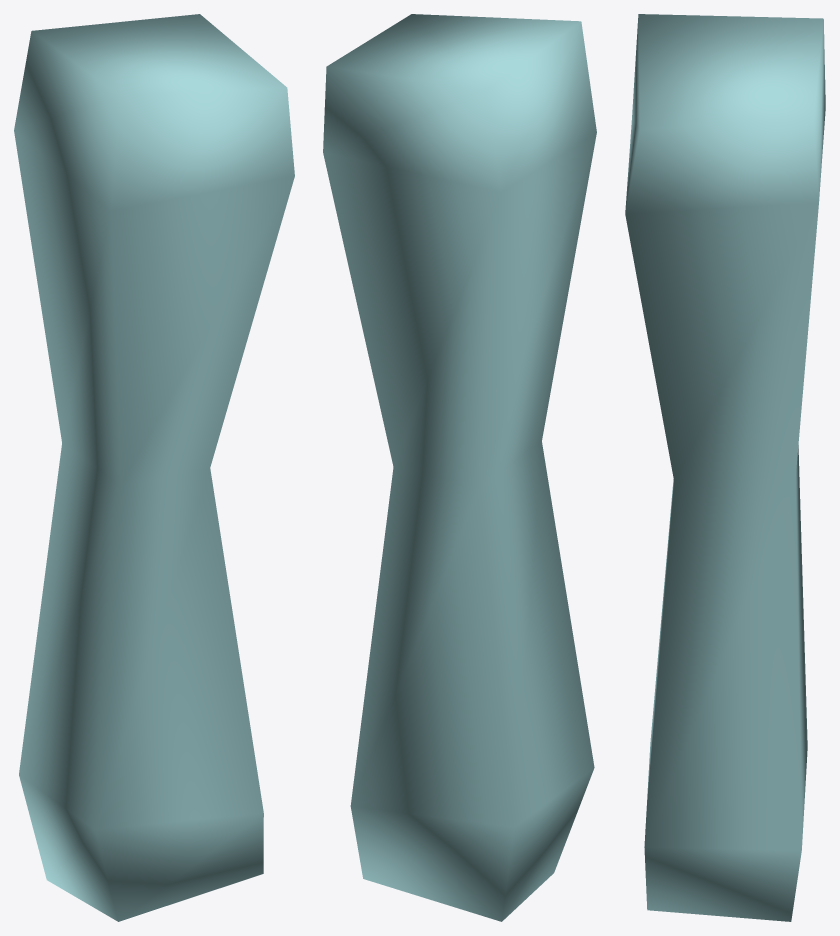
File: Skelly_palm.02.L.fbx
3 views of the same model, side by side, from view 1: azimuth 30°, elevation 25°; view 2: azimuth 150°, elevation 25°; view 3: azimuth 270°, elevation 25° (orthographic).
Visible parts, largest first — view 1: Skelly_palm.02.L; view 2: Skelly_palm.02.L; view 3: Skelly_palm.02.L.
Boxes of the visible parts, bbox=[...] form: Skelly_palm.02.L: bbox=[14, 14, 294, 921]; Skelly_palm.02.L: bbox=[323, 14, 596, 921]; Skelly_palm.02.L: bbox=[625, 14, 825, 921].
Bounding box in the file's own units: 2.06 × 8.82 × 1.89.
